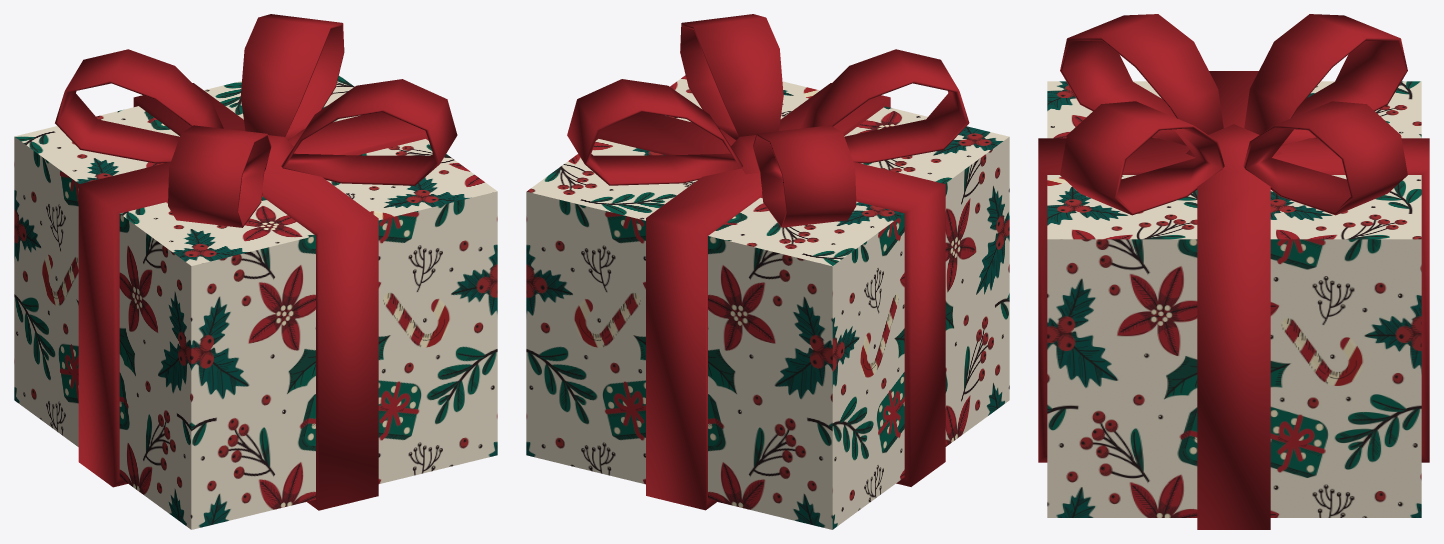
Rendered from giftBigWhite1.glb.
The picture shows the model from 3 angles, left to right: view 1: azimuth 30°, elevation 25°; view 2: azimuth 150°, elevation 25°; view 3: azimuth 270°, elevation 25°; orthographic projection. The views are drawn at different scales.
Visible parts, largest first — view 1: GiftBigWhite1; view 2: GiftBigWhite1; view 3: GiftBigWhite1.
Part boxes in pixels (left/top/right/bottom): GiftBigWhite1: left=14, top=14, right=497, bottom=529; GiftBigWhite1: left=526, top=14, right=1009, bottom=529; GiftBigWhite1: left=1038, top=14, right=1429, bottom=529.
Size of what is drawn, in the model's own units: 0.9149 by 0.9717 by 0.9149.
1 material, 1 textured.
